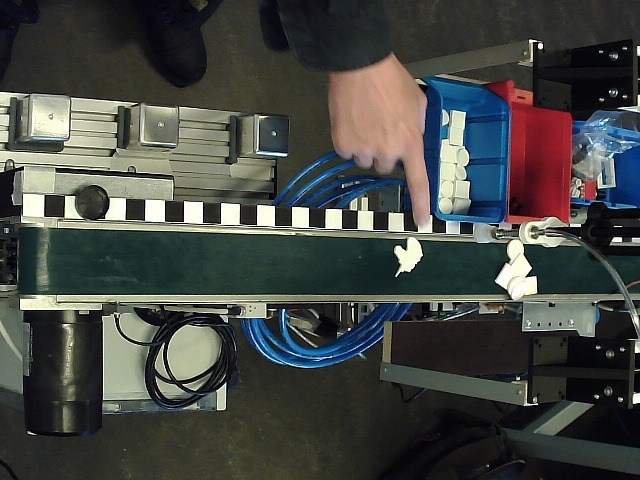unicorn: (392, 237, 424, 278)
